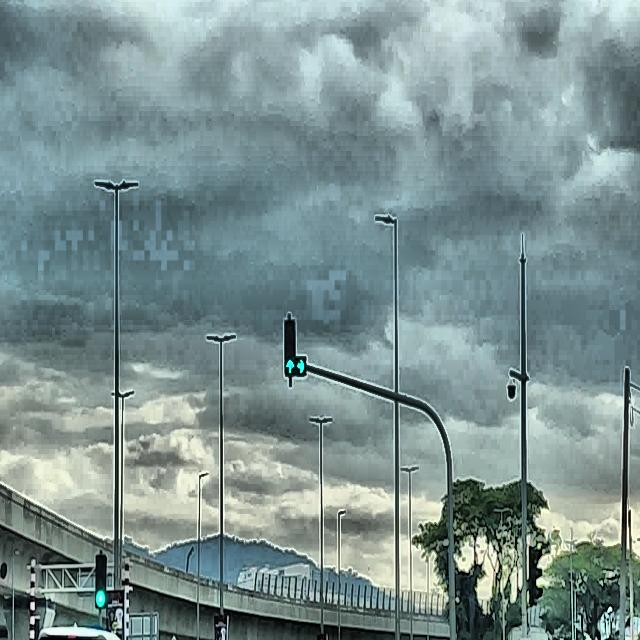green: (94, 554, 108, 607), (294, 320, 306, 375), (286, 319, 295, 375)
